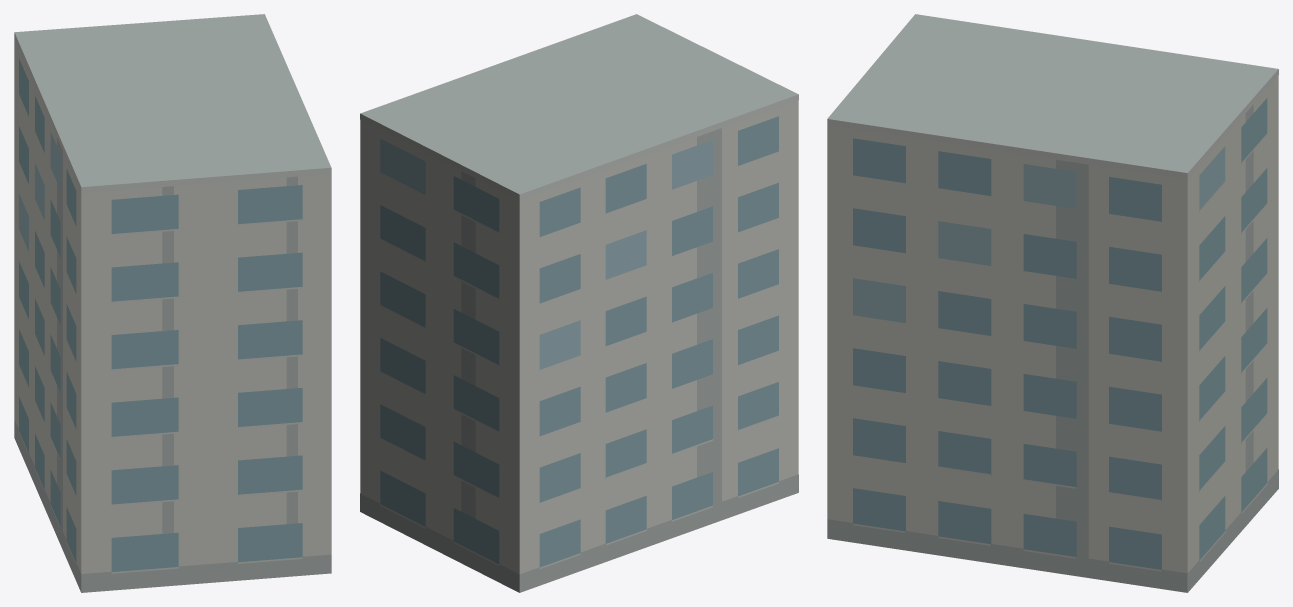
Rendered from survey-upis-32885791.glb.
The picture shows the model from 3 angles, left to right: view 1: azimuth 30°, elevation 25°; view 2: azimuth 150°, elevation 25°; view 3: azimuth 270°, elevation 25°; orthographic projection. The views are drawn at different scales.
Visible parts, largest first — view 1: survey-upis-32885791.tmp; view 2: survey-upis-32885791.tmp; view 3: survey-upis-32885791.tmp.
Part boxes in pixels (x1,y1,x2,y2): survey-upis-32885791.tmp: (14, 14, 331, 592); survey-upis-32885791.tmp: (360, 14, 798, 592); survey-upis-32885791.tmp: (827, 14, 1278, 592).
Size of the model in its own units: 13.01 by 16 by 15.61.
